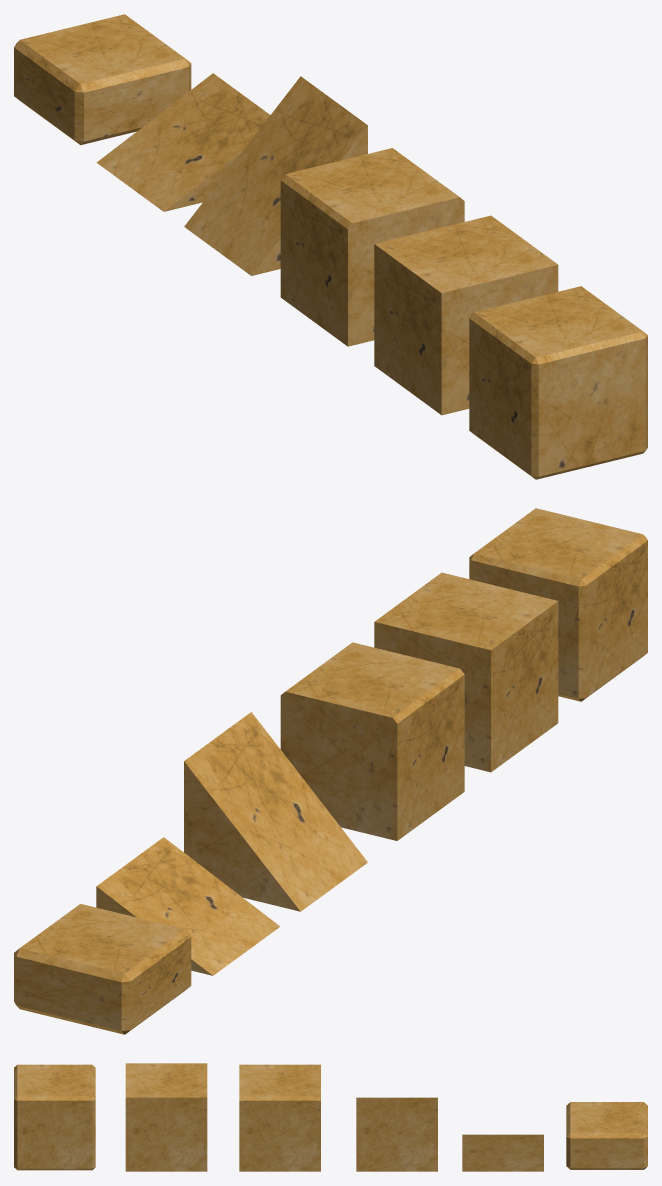
The model's file is metalBlocks.glb.
3 renders of one model, top to bottom at view 1: azimuth 30°, elevation 25°; view 2: azimuth 150°, elevation 25°; view 3: azimuth 270°, elevation 25°, orthographic. The views are drawn at different scales.
Parts seen in each view (by area): view 1: mainBlock, borderlessBlock, topBorderBlock, semiBlock, HighRamp, LowRamp; view 2: topBorderBlock, HighRamp, borderlessBlock, mainBlock, semiBlock, LowRamp; view 3: borderlessBlock, topBorderBlock, mainBlock, HighRamp, semiBlock, LowRamp.
Part boxes in pixels (left/top/right/bottom): mainBlock: left=469, top=286, right=647, bottom=479; borderlessBlock: left=374, top=215, right=558, bottom=415; topBorderBlock: left=280, top=148, right=464, bottom=346; semiBlock: left=14, top=14, right=191, bottom=145; HighRamp: left=184, top=76, right=367, bottom=275; LowRamp: left=96, top=73, right=270, bottom=211; topBorderBlock: left=280, top=642, right=464, bottom=840; HighRamp: left=184, top=712, right=367, bottom=911; borderlessBlock: left=374, top=572, right=558, bottom=772; mainBlock: left=469, top=508, right=647, bottom=701; semiBlock: left=14, top=904, right=191, bottom=1034; LowRamp: left=96, top=837, right=280, bottom=975; borderlessBlock: left=125, top=1063, right=207, bottom=1171; topBorderBlock: left=239, top=1064, right=320, bottom=1171; mainBlock: left=14, top=1064, right=95, bottom=1170; HighRamp: left=356, top=1097, right=437, bottom=1171; semiBlock: left=566, top=1102, right=647, bottom=1169; LowRamp: left=462, top=1134, right=543, bottom=1171.
Size of what is drawn, in the model's own units: 2 by 2 by 15.53.
1 material, 1 textured.
